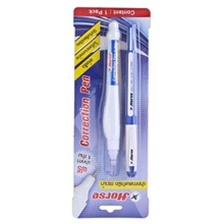book: (69, 4, 151, 220)
correction_fluid: (100, 19, 123, 179)
